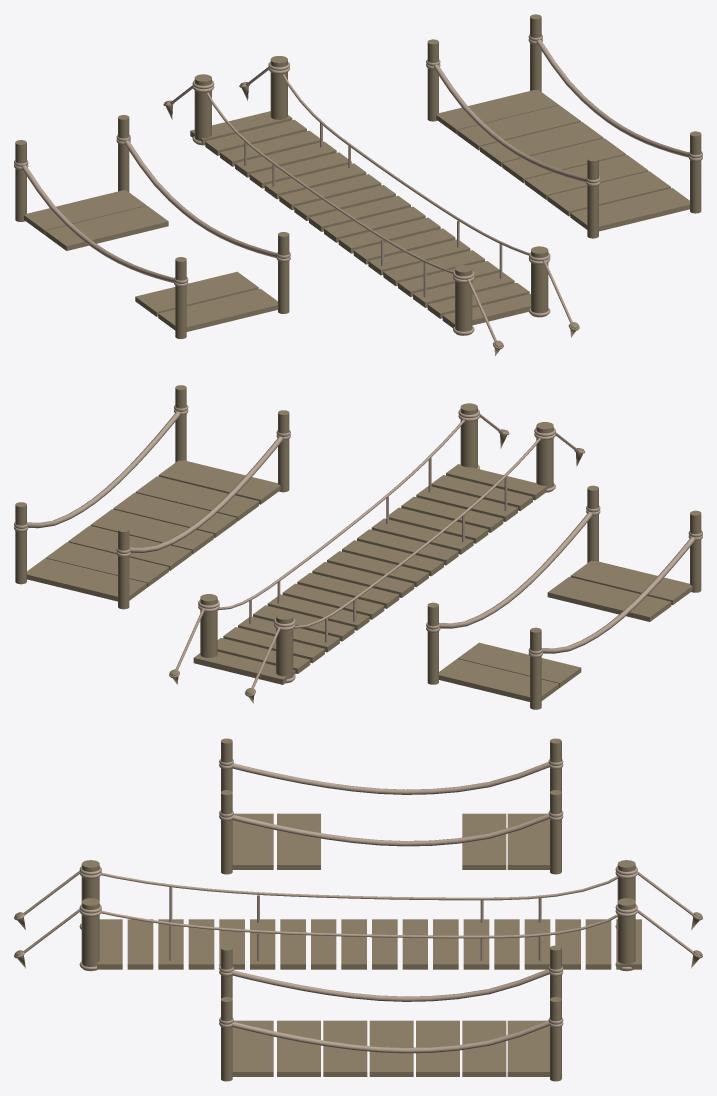
The model's file is bridge.fbx.
The picture shows the model from 3 angles, top to bottom: view 1: azimuth 30°, elevation 25°; view 2: azimuth 150°, elevation 25°; view 3: azimuth 270°, elevation 25°; orthographic projection. The views are drawn at different scales.
Parts seen in each view (by area): view 1: _pCube148, _pCube114, _pCube119, _pCube150, _pCube152, _pCube153, _pCube118, _pCube149, _pCube113, _pCube151, _pCube154, _pCube155 (+18 smaller); view 2: _pCube148, _pCube118, _pCube113, _pCube149, _pCube150, _pCube119, _pCube151, _pCube155, _pCube154, _pCube114, _pCube152, _pCube153 (+18 smaller); view 3: _pCube148, _pCube114, _pCube154, _pCube155, _pCube152, _pCube153, _pCube118, _pCube151, _pCube149, _pCube113, _pCube119, _pCube150 (+18 smaller).
Part boxes in pixels (bbox=[...]): _pCube148: bbox=[190, 111, 530, 327]; _pCube114: bbox=[45, 206, 168, 250]; _pCube119: bbox=[158, 288, 277, 331]; _pCube150: bbox=[570, 188, 689, 231]; _pCube152: bbox=[457, 105, 580, 150]; _pCube153: bbox=[480, 122, 603, 166]; _pCube118: bbox=[135, 271, 258, 316]; _pCube149: bbox=[436, 89, 558, 134]; _pCube113: bbox=[24, 190, 146, 234]; _pCube151: bbox=[547, 171, 670, 216]; _pCube154: bbox=[502, 138, 625, 183]; _pCube155: bbox=[525, 154, 648, 199]; _pCube148: bbox=[193, 464, 547, 684]; _pCube118: bbox=[547, 577, 671, 621]; _pCube113: bbox=[439, 659, 559, 701]; _pCube149: bbox=[27, 558, 146, 601]; _pCube150: bbox=[158, 460, 280, 504]; _pCube119: bbox=[570, 561, 692, 604]; _pCube151: bbox=[135, 476, 258, 521]; _pCube155: bbox=[113, 492, 236, 537]; _pCube154: bbox=[90, 509, 213, 554]; _pCube114: bbox=[457, 642, 581, 687]; _pCube152: bbox=[46, 542, 168, 587]; _pCube153: bbox=[68, 525, 191, 570]; _pCube148: bbox=[97, 919, 641, 969]; _pCube114: bbox=[462, 813, 506, 869]; _pCube154: bbox=[369, 1020, 413, 1076]; _pCube155: bbox=[323, 1020, 367, 1076]; _pCube152: bbox=[462, 1020, 506, 1076]; _pCube153: bbox=[416, 1020, 459, 1076]; _pCube118: bbox=[277, 813, 320, 869]; _pCube151: bbox=[277, 1020, 320, 1076]; _pCube149: bbox=[507, 1020, 549, 1076]; _pCube113: bbox=[507, 813, 549, 869]; _pCube119: bbox=[232, 813, 273, 869]; _pCube150: bbox=[232, 1020, 273, 1076].
Size of the model in its own units: 40.94 by 5.83 by 45.03.
